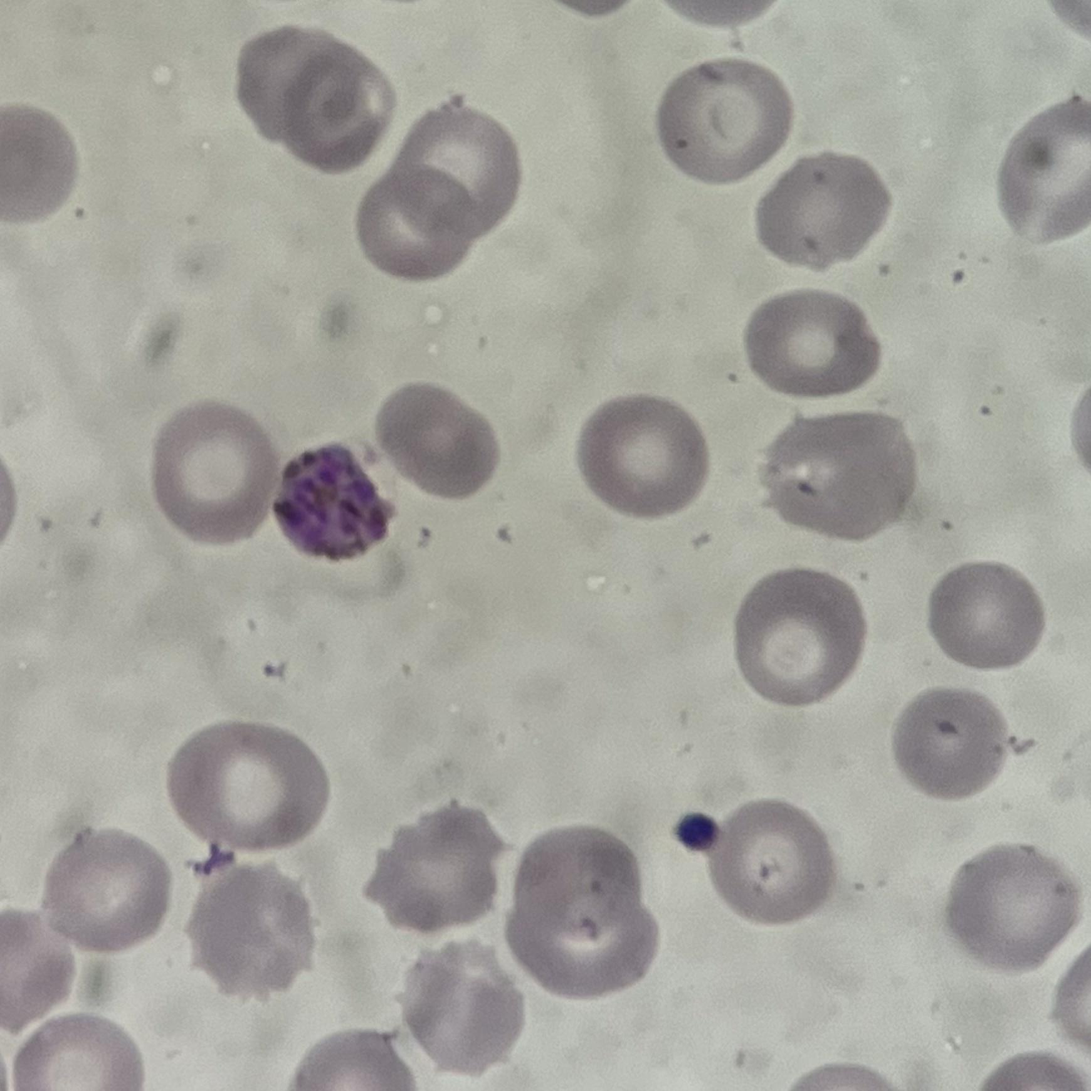Infected: (274, 443, 394, 557)
Uninfected: (504, 826, 655, 996), (165, 723, 324, 855), (761, 411, 914, 539), (364, 804, 507, 934), (733, 569, 867, 704), (184, 861, 317, 997), (657, 58, 794, 182), (944, 843, 1075, 971), (698, 801, 833, 925), (399, 944, 527, 1074), (576, 396, 709, 517), (756, 154, 892, 271), (155, 410, 271, 544), (41, 830, 169, 951), (401, 107, 520, 231), (744, 291, 880, 399), (274, 48, 390, 171), (372, 387, 497, 501), (353, 161, 474, 277), (997, 93, 1091, 240), (891, 688, 1010, 800), (234, 28, 353, 135), (927, 562, 1044, 668), (0, 107, 84, 221), (13, 1014, 142, 1088), (0, 912, 75, 1028), (290, 1032, 416, 1090)
